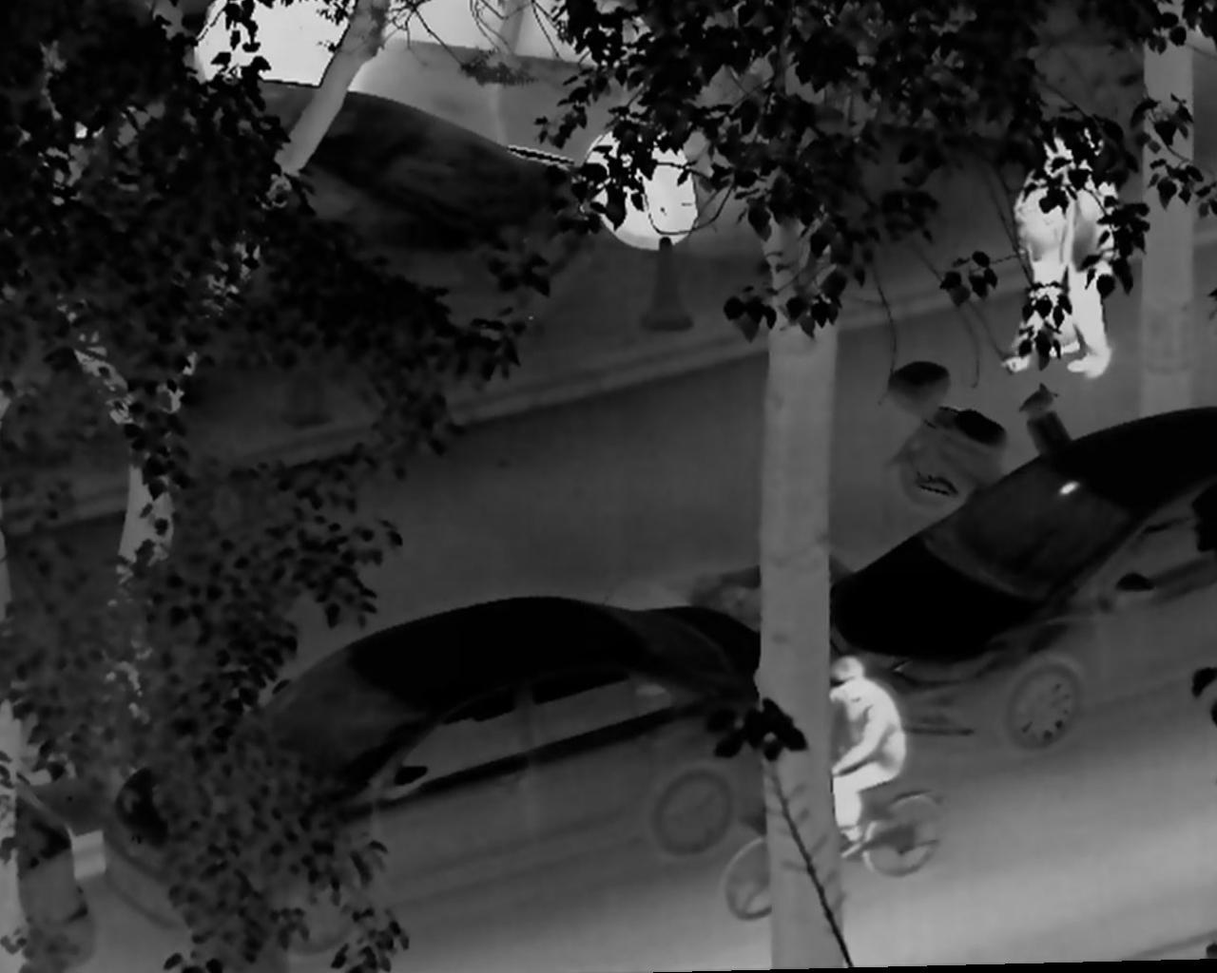person: (997, 127, 1083, 379), (824, 656, 908, 865), (1062, 124, 1123, 381)
